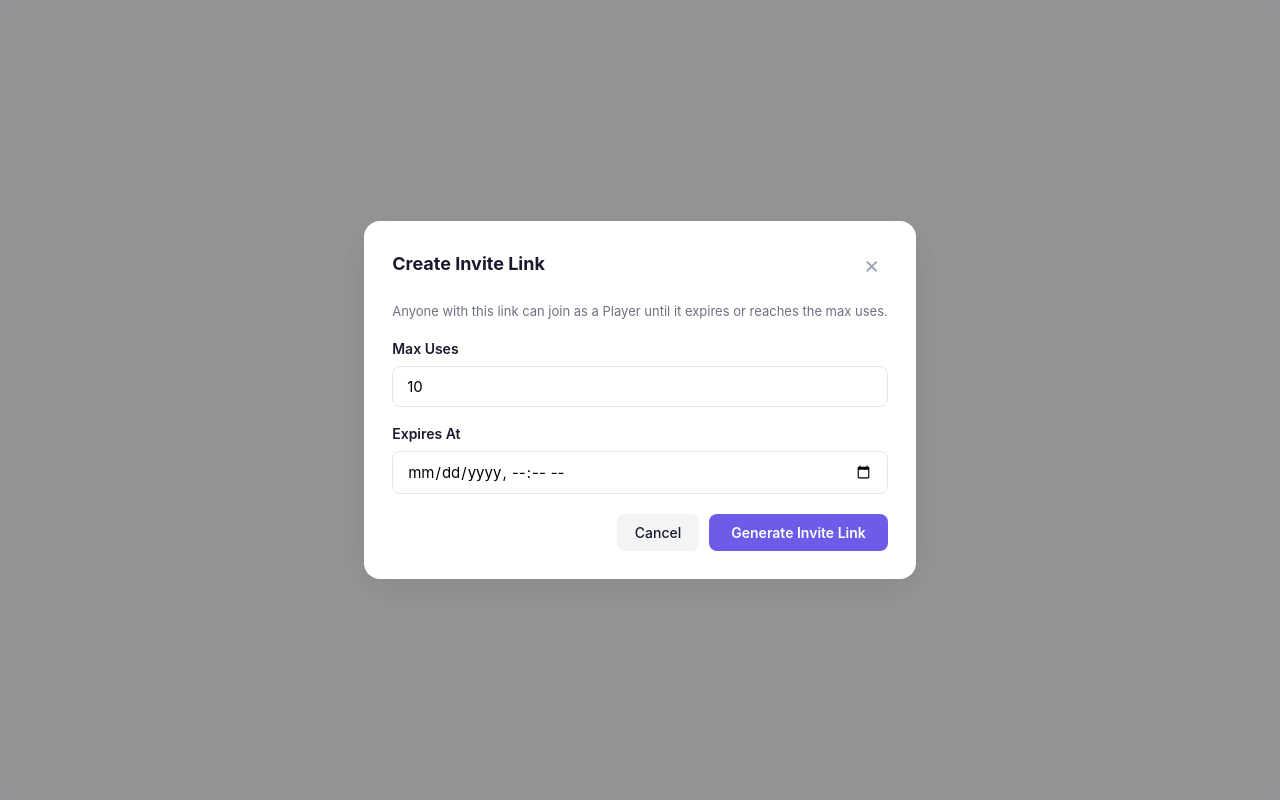
InviteModal › non-super-admin user › shows error on past expiration date
Replace the text in the number field labelled "Max Uses" with "5": x=640, y=386 [392,366,888,407]
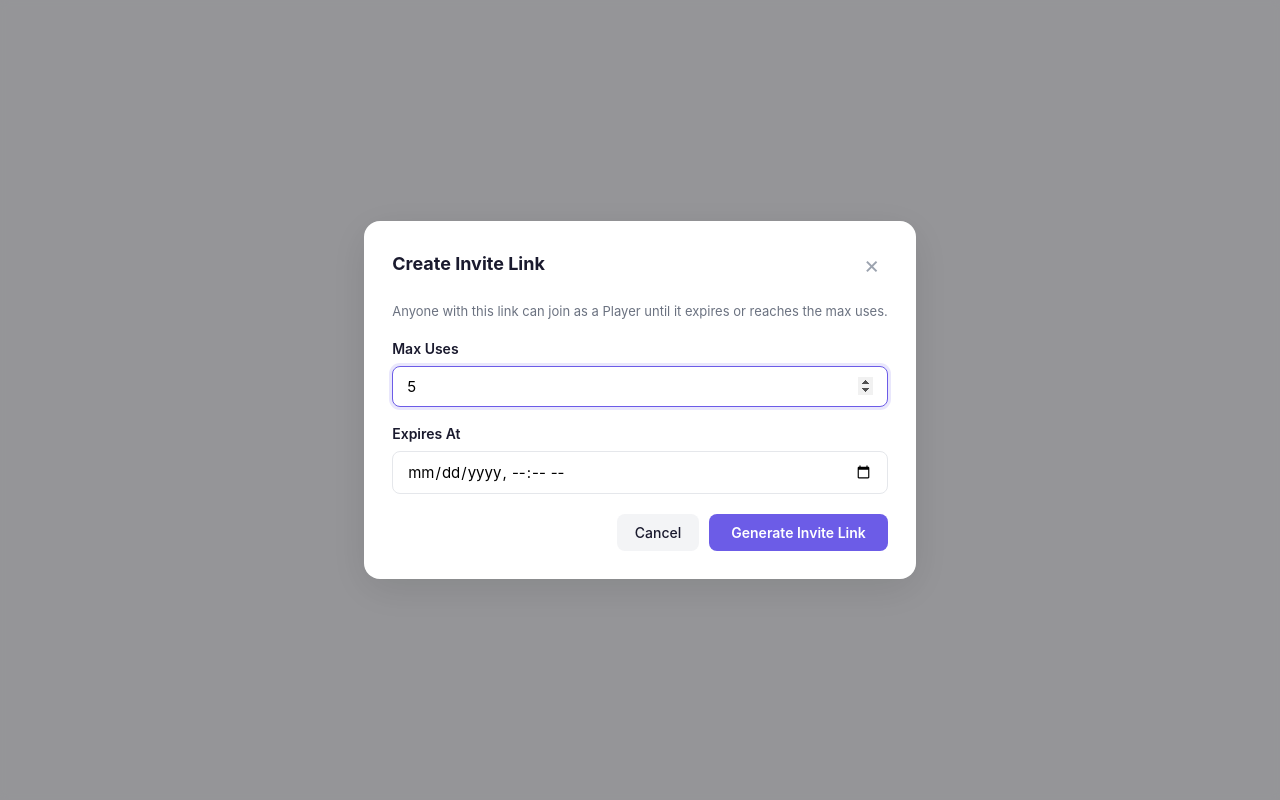
In the field labelled "Expires At": x=640, y=473 [392,451,888,494], type "2020-01-01T00:00"
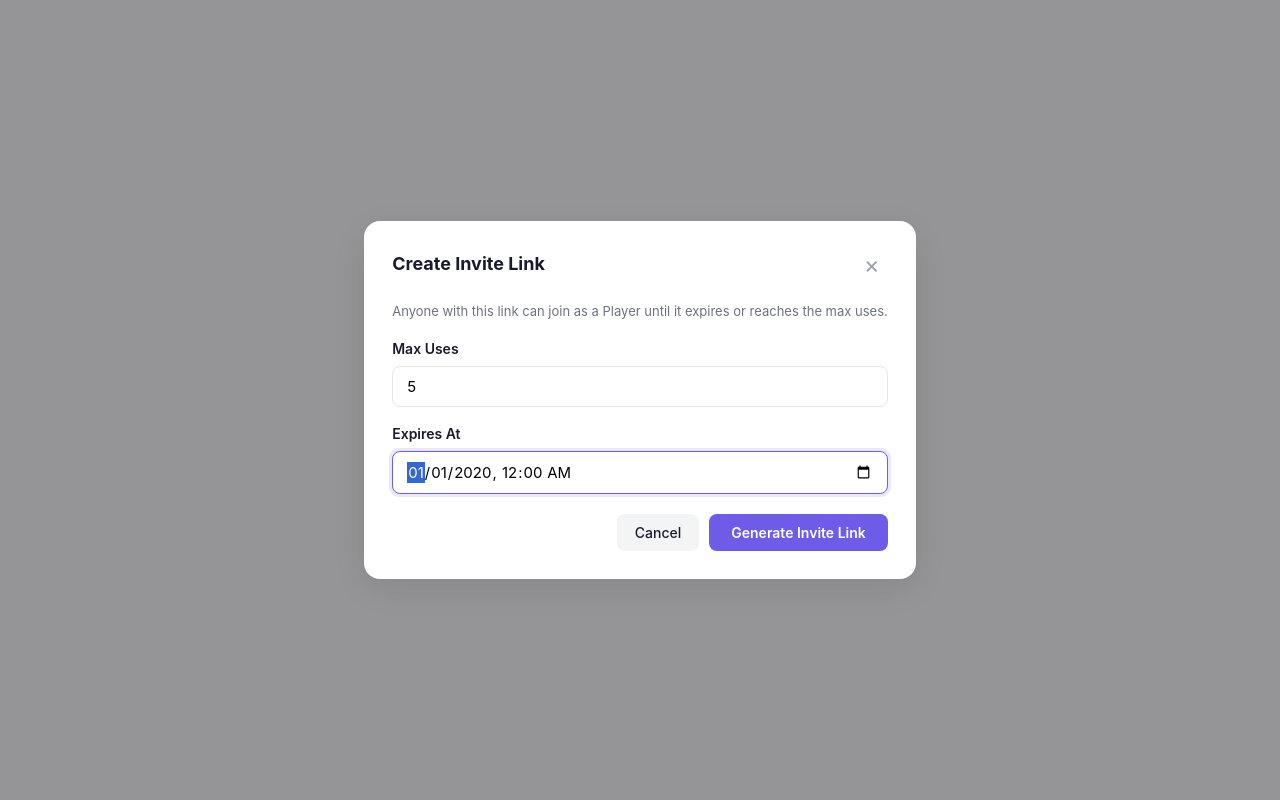
Click the button "Generate Invite Link": x=799, y=533 [709,514,888,551]
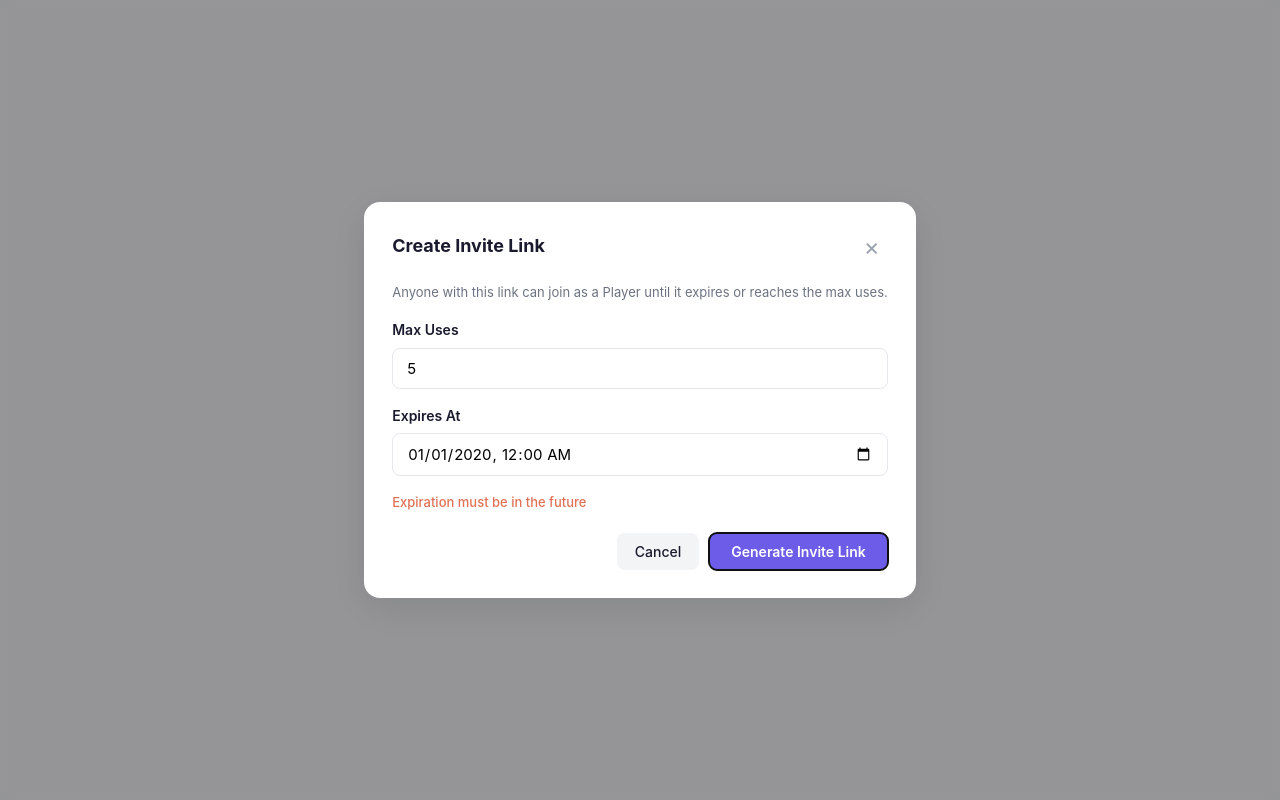
Result: the text "Expiration must be in the future" is shown at [392,494,586,510]
